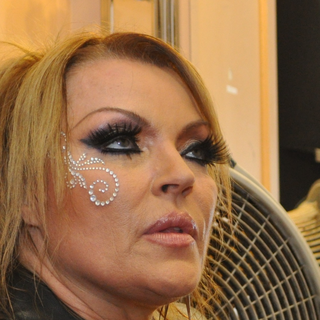eye: (91, 132, 140, 160), (180, 139, 223, 167)
